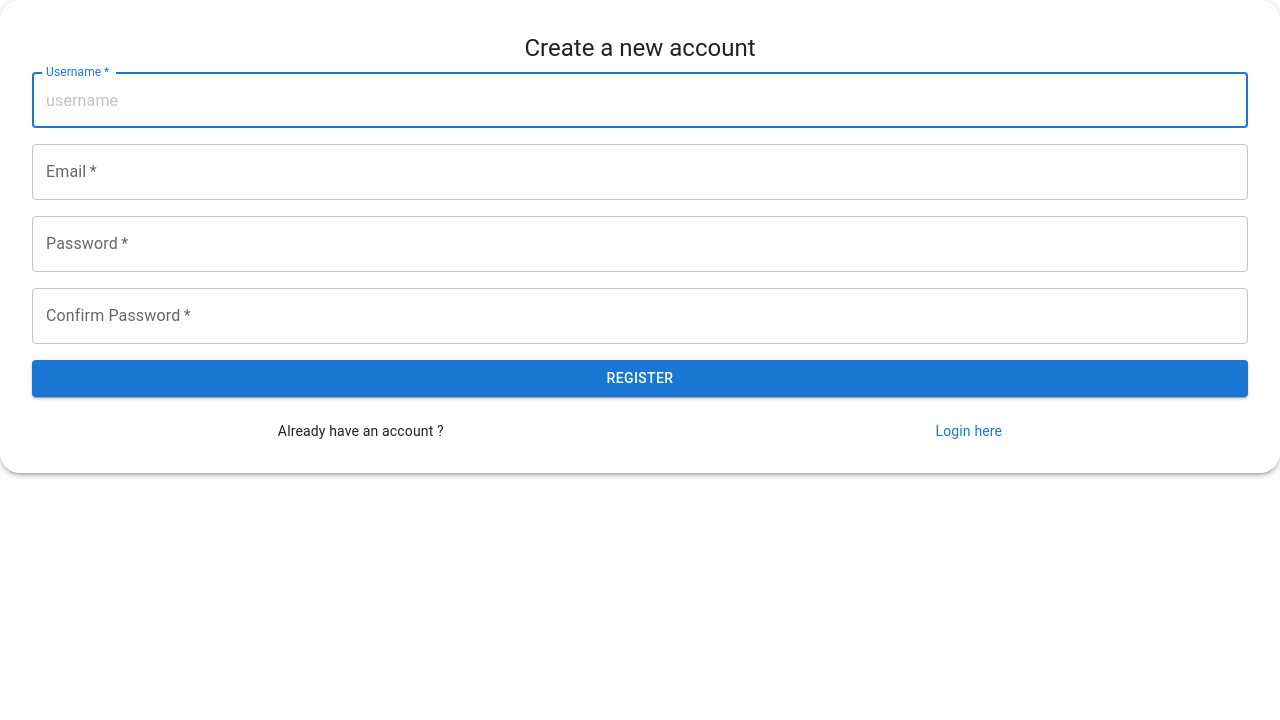
Test: LoginPage › RegisterPane › show validation error when username is less than 3 characters
Type "ab" into the field labelled "Username" at x=640, y=100, box top-left (32, 72), bottom-right (1248, 128)
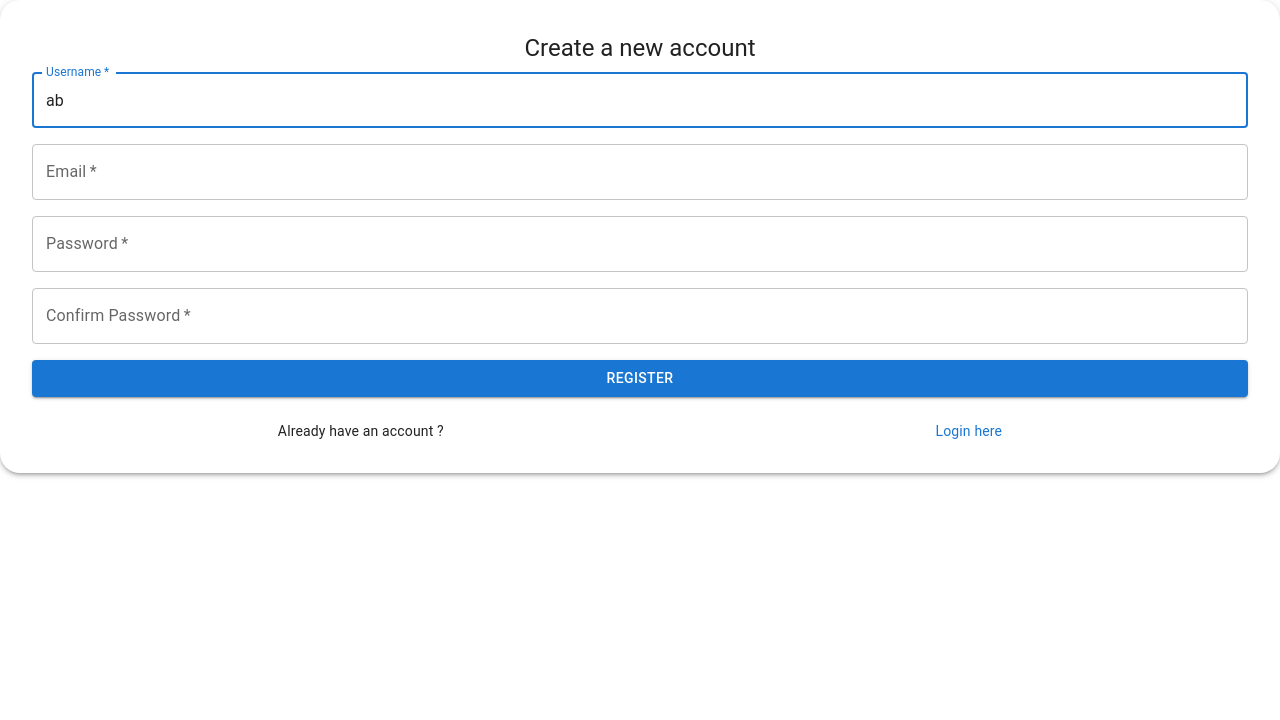
Click the button "Register" at x=640, y=379, box top-left (32, 360), bottom-right (1248, 397)
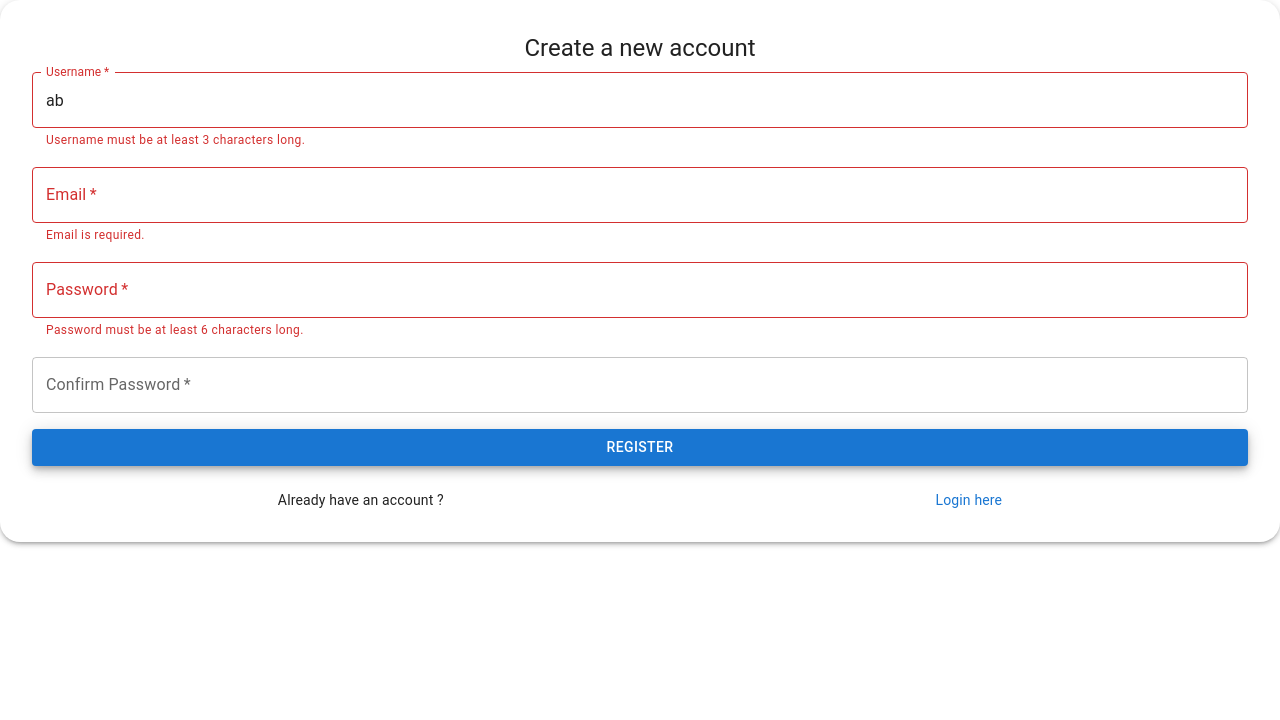
expect the text "Username must be at least 3 characters long." is shown: met, box top-left (46, 133), bottom-right (305, 147)
